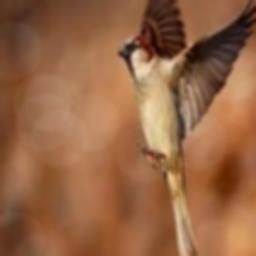Sparrow: (118, 0, 256, 256)
